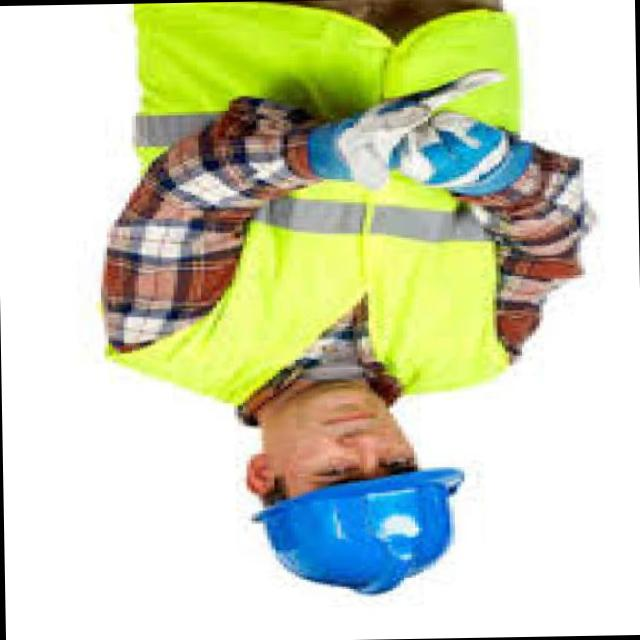gloved: (301, 68, 505, 192)
